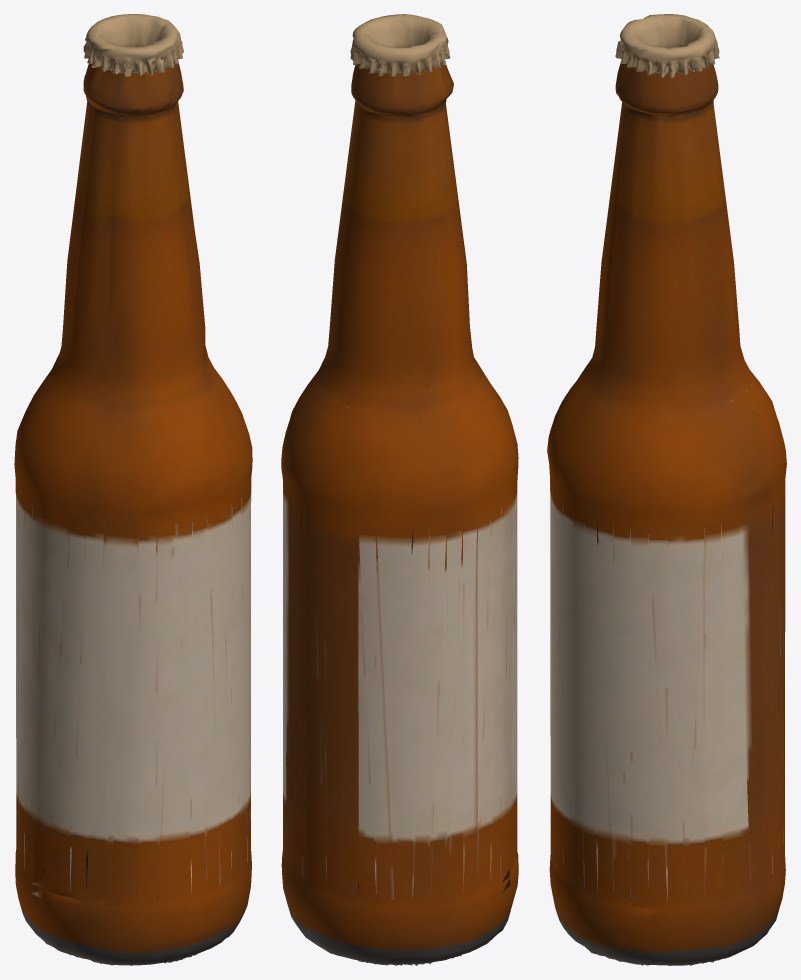
The model's file is desktop.glb.
The picture shows the model from 3 angles, left to right: view 1: azimuth 30°, elevation 25°; view 2: azimuth 150°, elevation 25°; view 3: azimuth 270°, elevation 25°; orthographic projection.
Visible parts, largest first — view 1: beerbottle; view 2: beerbottle; view 3: beerbottle.
Boxes of the visible parts, x1,y1,x2,y2 form: beerbottle: [14, 14, 252, 965]; beerbottle: [281, 14, 518, 965]; beerbottle: [547, 14, 786, 965].
Bounding box in the file's own units: 0.0554 × 0.23 × 0.0558.
Materials: 1 (1 with a texture image).
